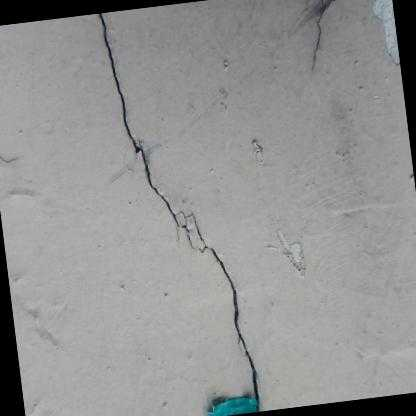crack: (96, 11, 260, 412)
